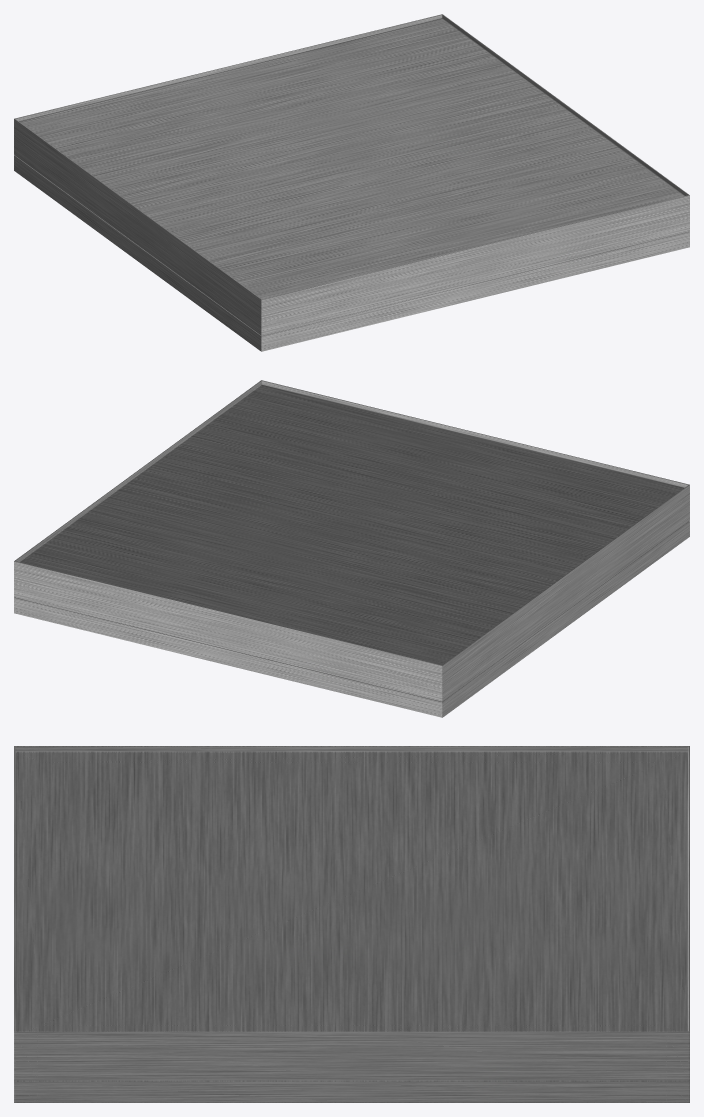
Rendered from AM152_005 Tlon Cubo 860 Ceiling_satin.obj.
3 views of the same model, one above another, from view 1: azimuth 30°, elevation 25°; view 2: azimuth 150°, elevation 25°; view 3: azimuth 270°, elevation 25° (orthographic). The views are drawn at different scales.
Parts seen in each view (by area): view 1: AM152_005_body_s; view 2: AM152_005_body_s; view 3: AM152_005_body_s.
Boxes of the visible parts, x1,y1,x2,y2 form: AM152_005_body_s: (14,14,689,351); AM152_005_body_s: (14,380,689,717); AM152_005_body_s: (14,746,689,1102).
Bounding box in the file's own units: 86 × 10.01 × 86.
Materials: 2 (1 with a texture image).
